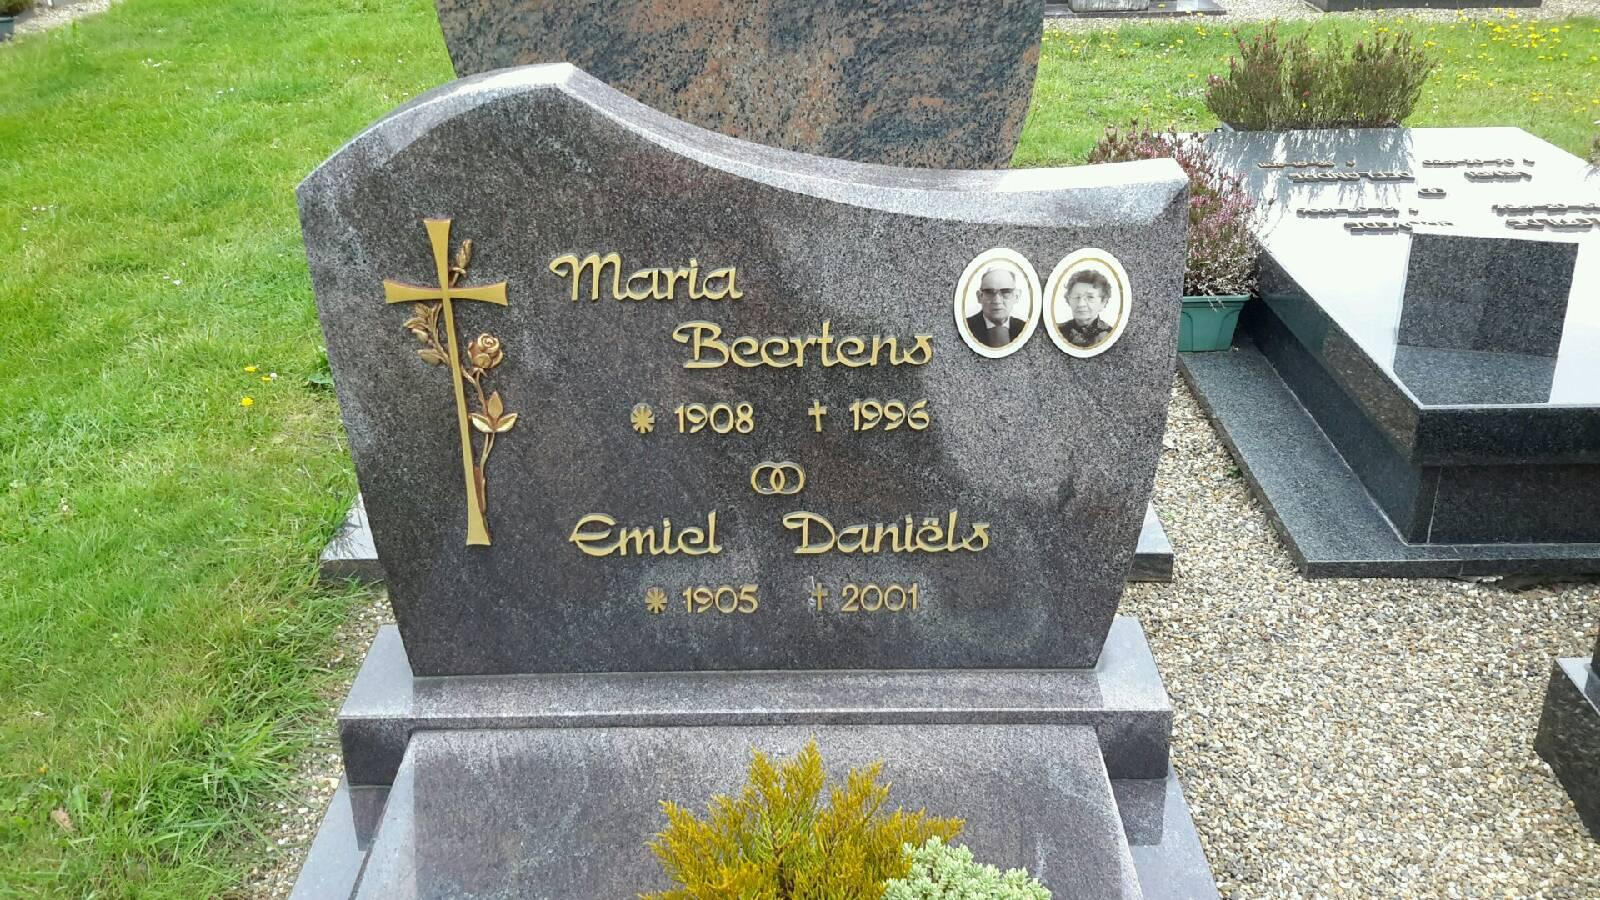upright: (295, 57, 1203, 782)
